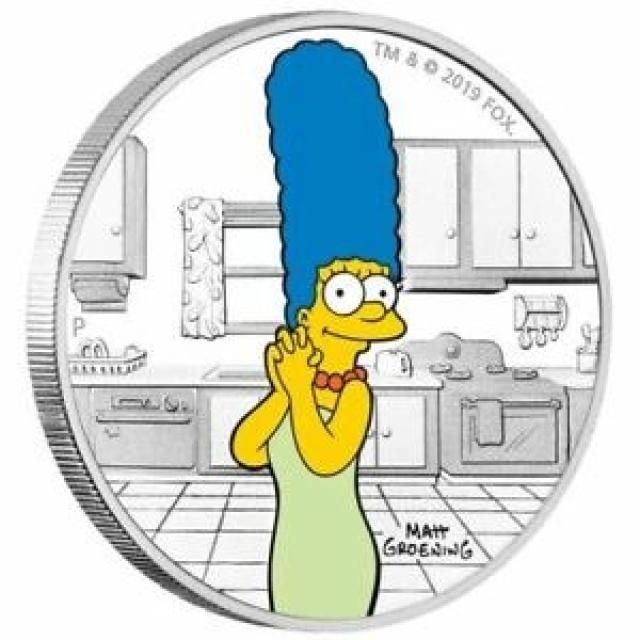Marge Simpson: (258, 31, 412, 391)
